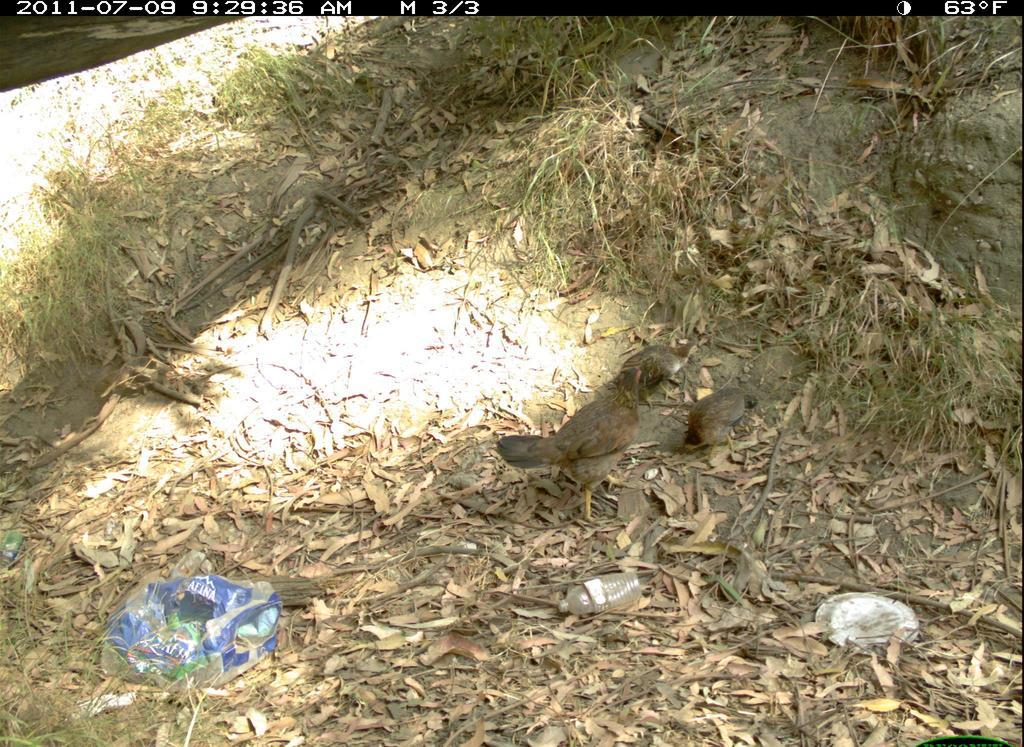bird: (497, 351, 651, 525), (674, 378, 769, 472), (617, 331, 703, 395)
